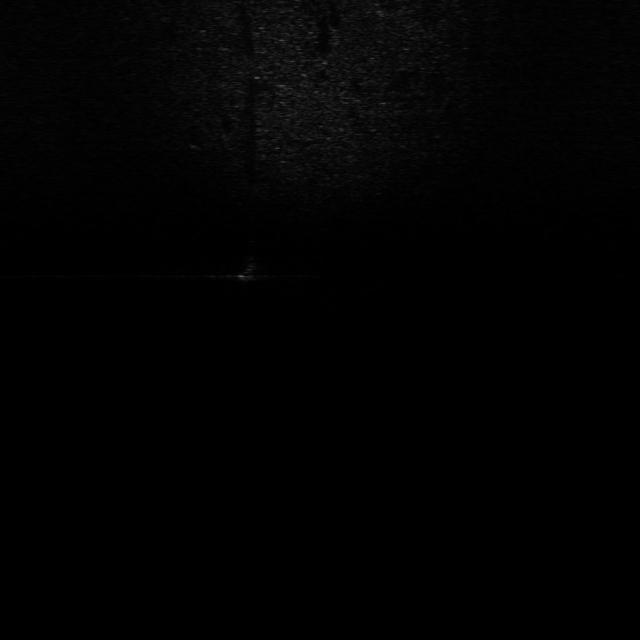human body: (233, 240, 268, 296)
